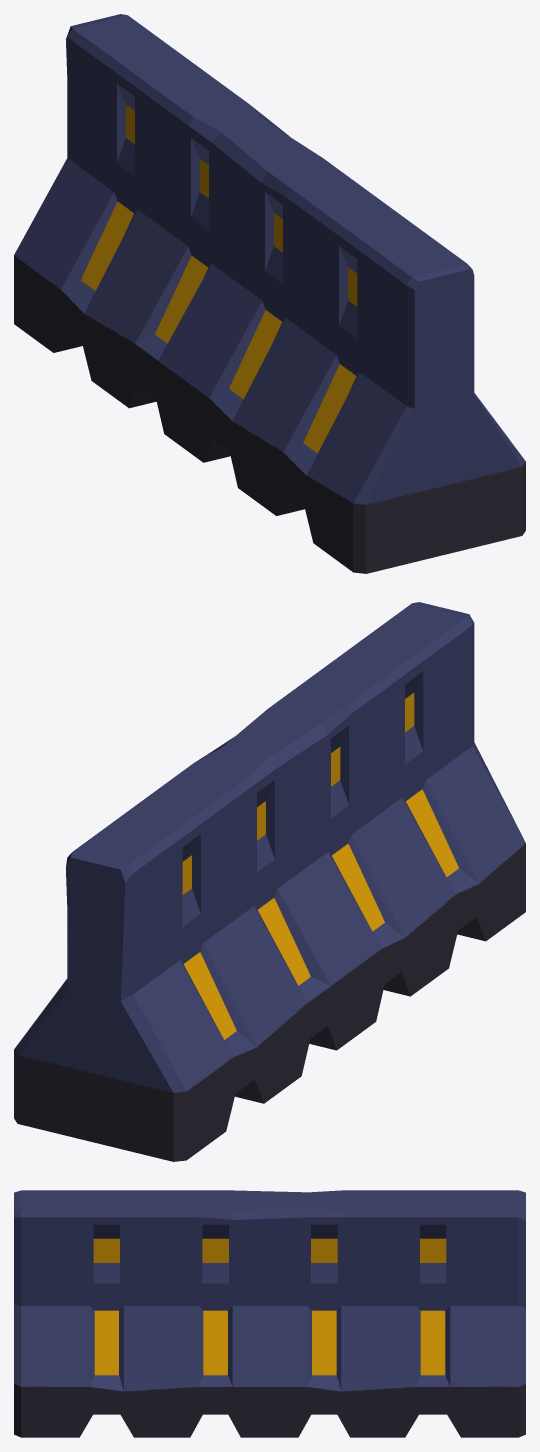
The model's file is Barrier.FBX.
3 renders of one model, top to bottom at view 1: azimuth 30°, elevation 25°; view 2: azimuth 150°, elevation 25°; view 3: azimuth 270°, elevation 25°, orthographic. The views are drawn at different scales.
Visible parts, largest first — view 1: Barrier; view 2: Barrier; view 3: Barrier.
Boxes of the visible parts, box(x1,y1,x2,y2) form: Barrier: box(14, 14, 525, 573); Barrier: box(14, 602, 525, 1161); Barrier: box(14, 1190, 525, 1437).
Size of the model in its own units: 65.43 by 102 by 229.
